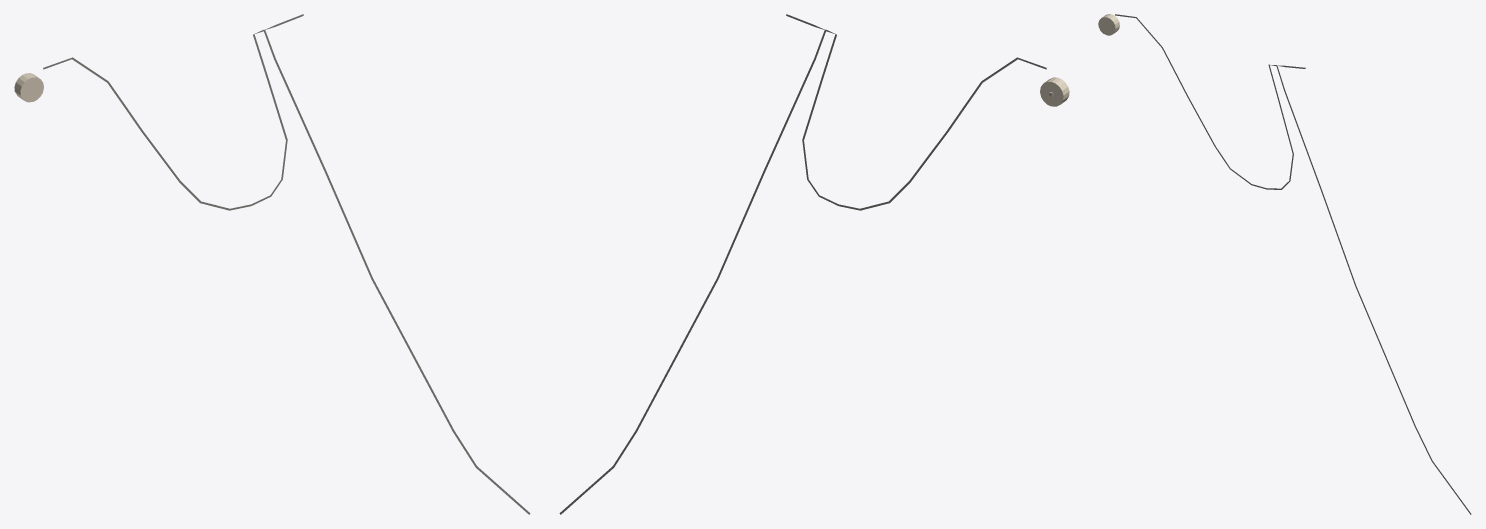
The model's file is historic-palestine-12_25_3543_3198.glb.
The picture shows the model from 3 angles, left to right: view 1: azimuth 30°, elevation 25°; view 2: azimuth 150°, elevation 25°; view 3: azimuth 330°, elevation 25°; orthographic projection. The views are drawn at different scales.
Parts seen in each view (by area): view 1: Road .001, Road, Building_; view 2: Road .001, Road, Building_; view 3: Road .001, Road.
Boxes of the visible parts, left/top/right/bottom form: Road .001: left=264, top=14, right=530, bottom=514; Road: left=43, top=29, right=287, bottom=210; Building_: left=14, top=73, right=43, bottom=102; Road .001: left=559, top=14, right=826, bottom=514; Road: left=802, top=29, right=1046, bottom=210; Building_: left=1040, top=77, right=1069, bottom=106; Road .001: left=1276, top=65, right=1471, bottom=514; Road: left=1115, top=14, right=1293, bottom=189.
Bounding box in the file's own units: 370 × 394 × 8.7.
